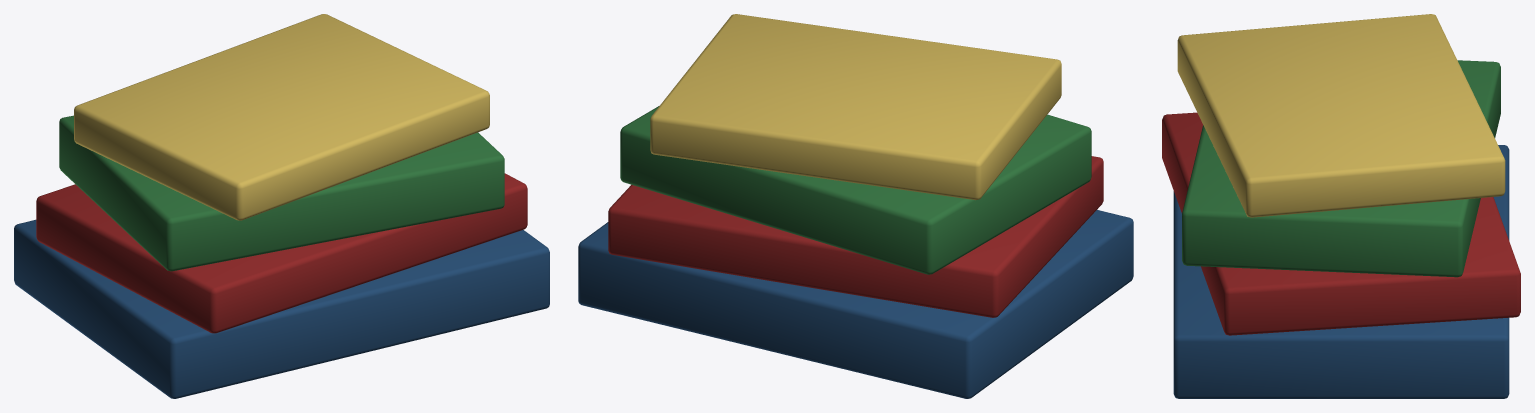
The model's file is Books_Stack.glb.
The picture shows the model from 3 angles, left to right: view 1: azimuth 30°, elevation 25°; view 2: azimuth 150°, elevation 25°; view 3: azimuth 270°, elevation 25°; orthographic projection. The views are drawn at different scales.
Visible parts, largest first — view 1: Books_Stack; view 2: Books_Stack; view 3: Books_Stack.
Part boxes in pixels (<box>): Books_Stack: <box>14,14,549,398</box>; Books_Stack: <box>578,14,1133,398</box>; Books_Stack: <box>1162,14,1520,398</box>.
Bounding box in the file's own units: 0.2618 × 0.13 × 0.2031.
